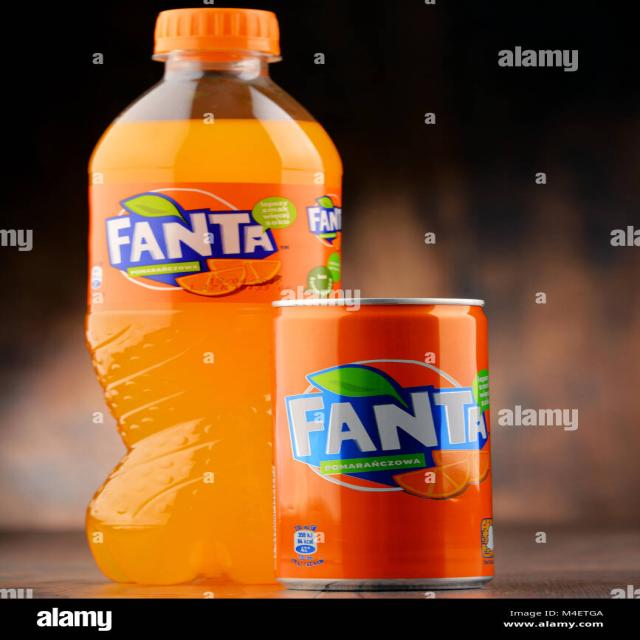fanta: (264, 290, 500, 588)
